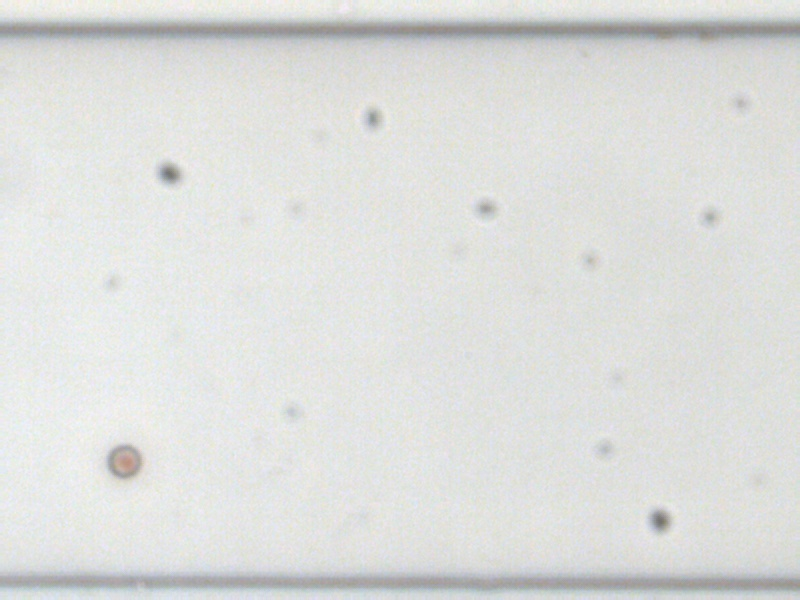Porphyridium: (106, 444, 141, 478)
